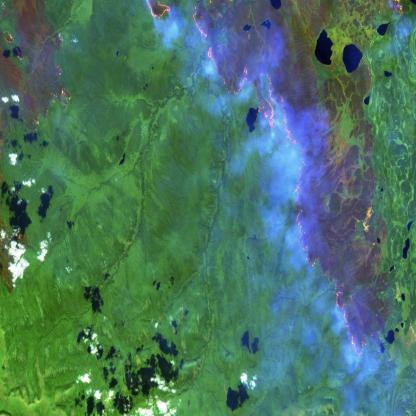fire: (189, 0, 415, 360), (143, 0, 177, 33)
